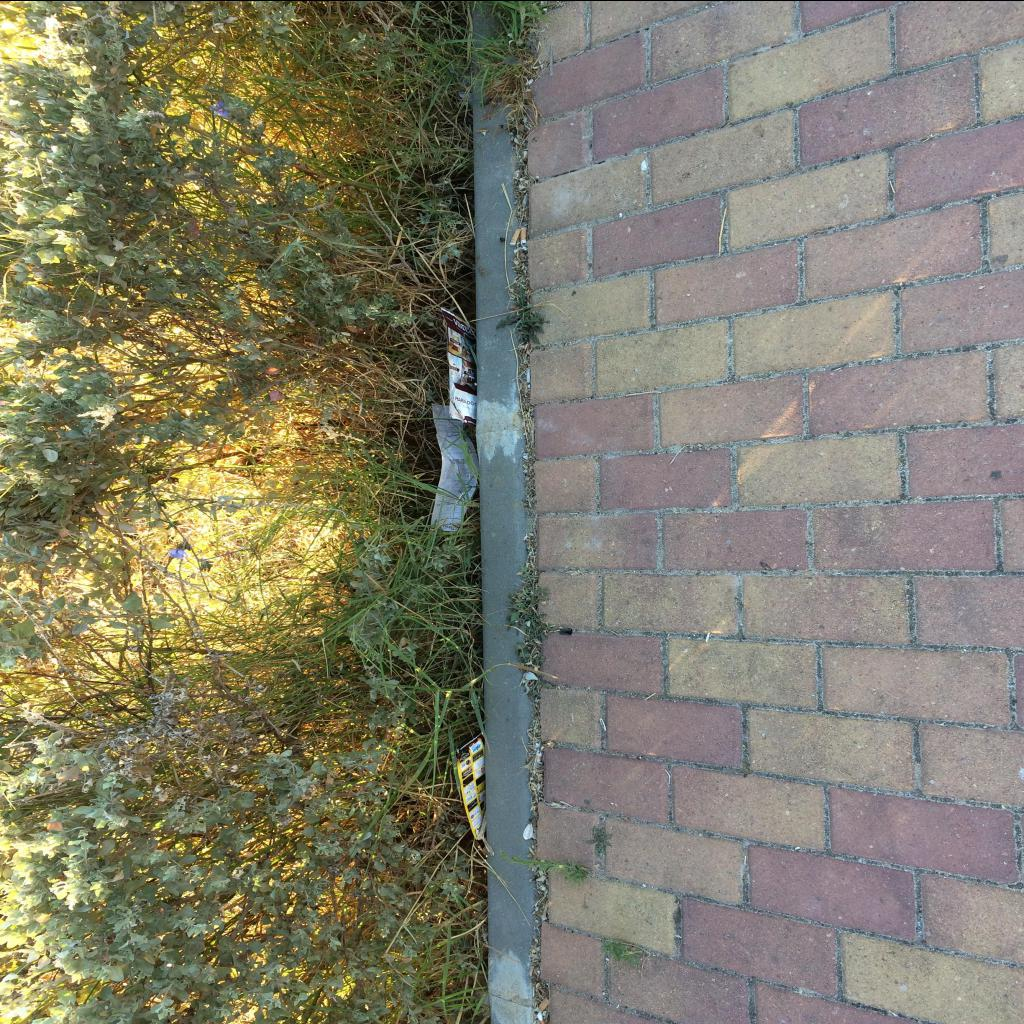Cigarette: (508, 228, 520, 246), (538, 996, 549, 1012), (520, 227, 526, 244)
Normal paper: (430, 402, 480, 530)
